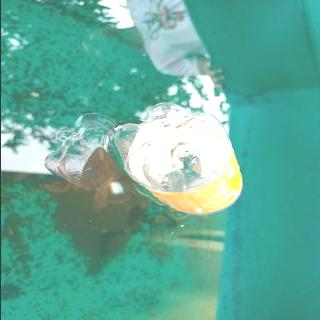bottle: (112, 100, 244, 216)
